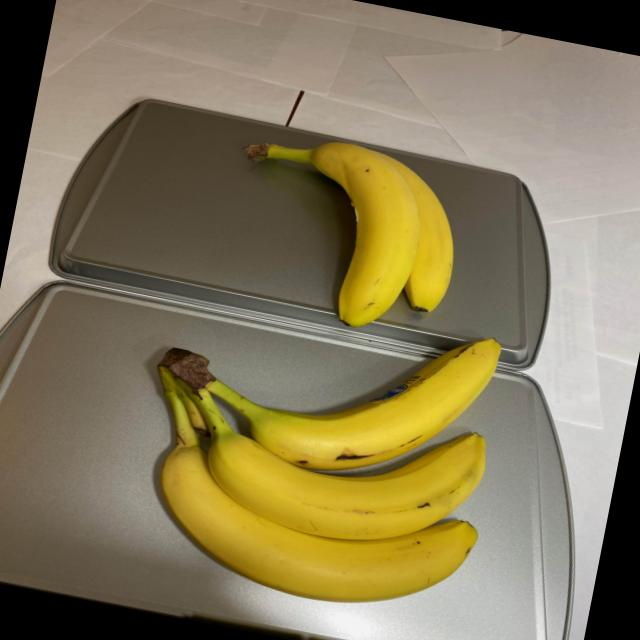banana: (100, 271, 518, 636), (215, 124, 471, 344)
